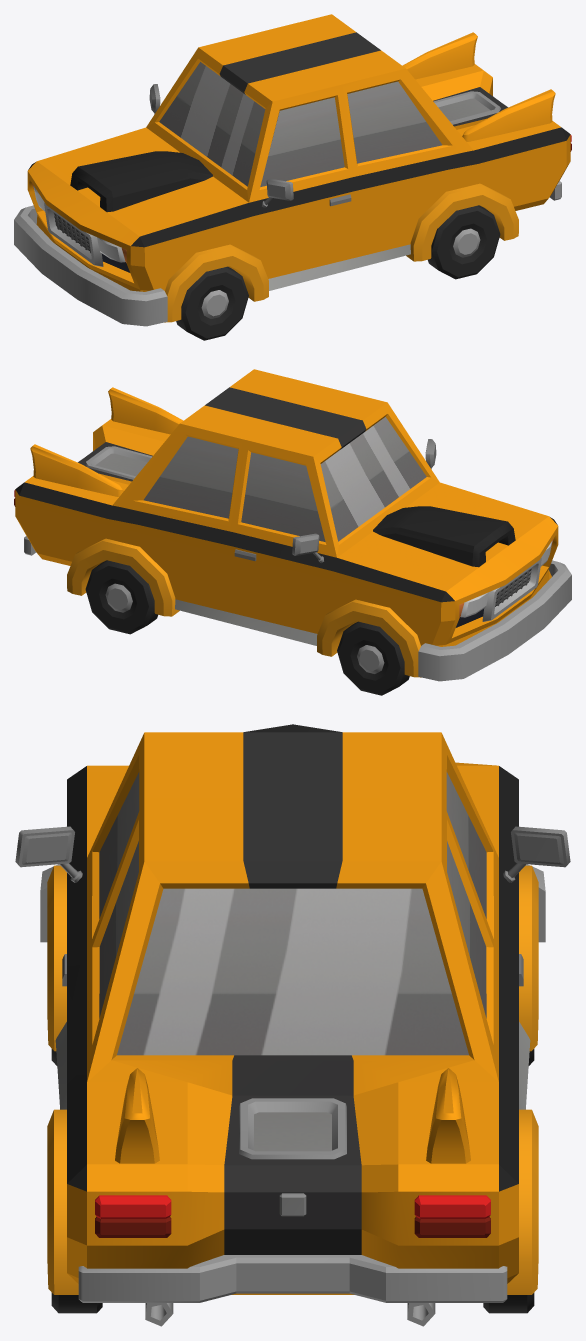
Rendered from Car_10_B.fbx.
3 views of the same model, one above another, from view 1: azimuth 30°, elevation 25°; view 2: azimuth 150°, elevation 25°; view 3: azimuth 270°, elevation 25° (orthographic). The views are drawn at different scales.
Parts seen in each view (by area): view 1: Car_10_B, RL, FL; view 2: Car_10_B, RR, FR; view 3: Car_10_B, RL, RR.
Part boxes in pixels (x1,y1,x2,y2): Car_10_B: (14,14,571,326); RL: (428,205,500,279); FL: (176,266,248,340); Car_10_B: (14,369,571,681); RR: (85,560,157,634); FR: (337,621,409,695); Car_10_B: (15,724,570,1326); RL: (51,1293,102,1313); RR: (483,1293,534,1313).
Size of the model in its own units: 358 by 149 by 185.
